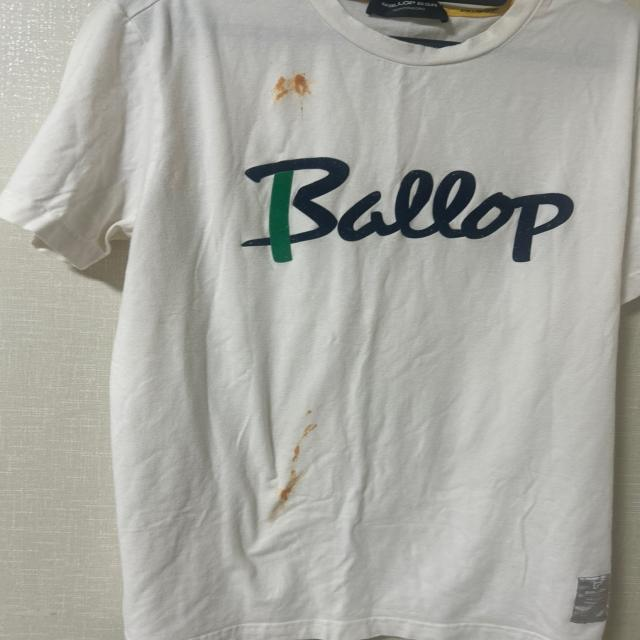stain: (276, 466, 306, 506), (295, 407, 324, 443), (274, 75, 298, 100), (297, 67, 315, 100), (292, 442, 309, 467)
